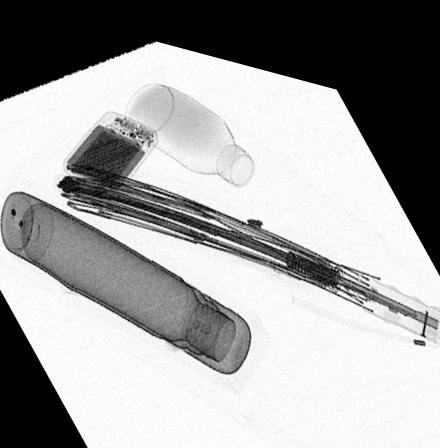Powerbank: (62, 104, 160, 193)
